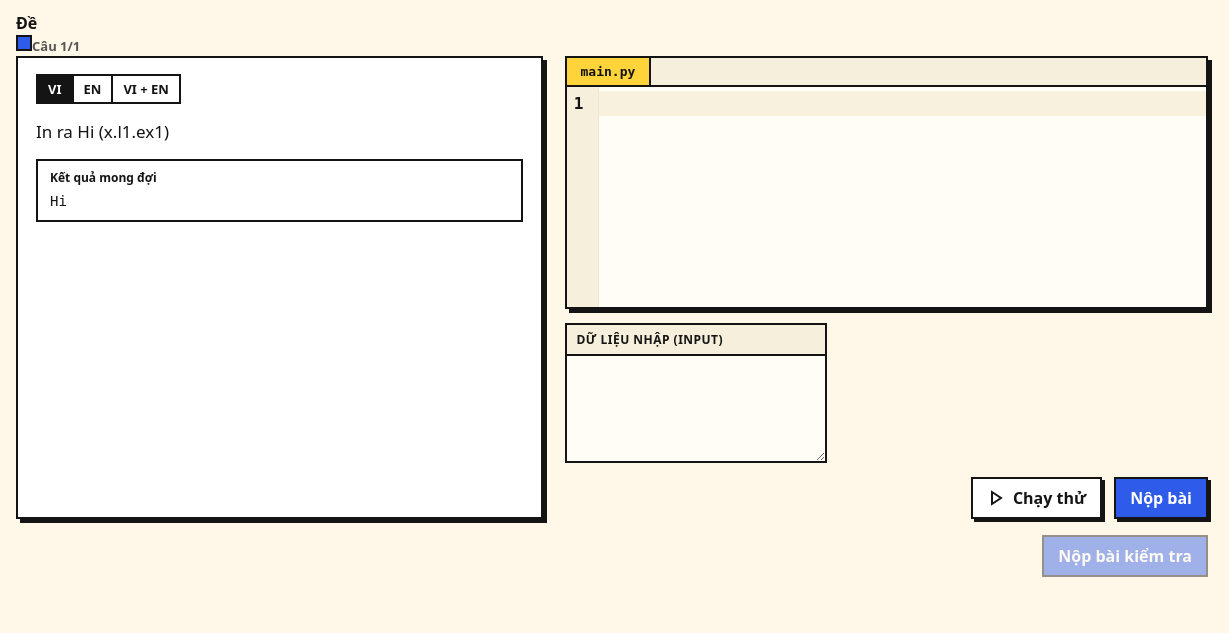
Test: ExamRunner › a misconception of a later stage › a stage 1 child gets no mastery entry for it
What coordinates should you click on to do the following:
click the button "Nộp bài"
I would click on:
 (1161, 498)
Its box is x1=1114 y1=477 x2=1208 y2=519.
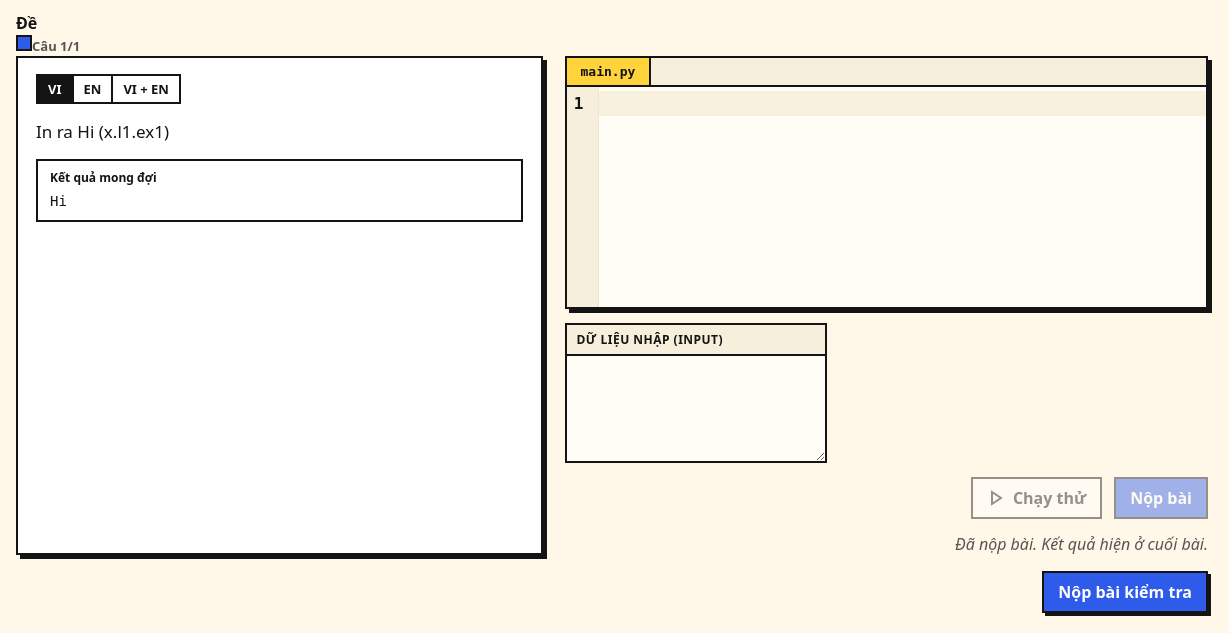
Now the text "Đã nộp bài. Kết quả hiện ở cuối bài." is shown, box x1=955 y1=533 x2=1208 y2=555
